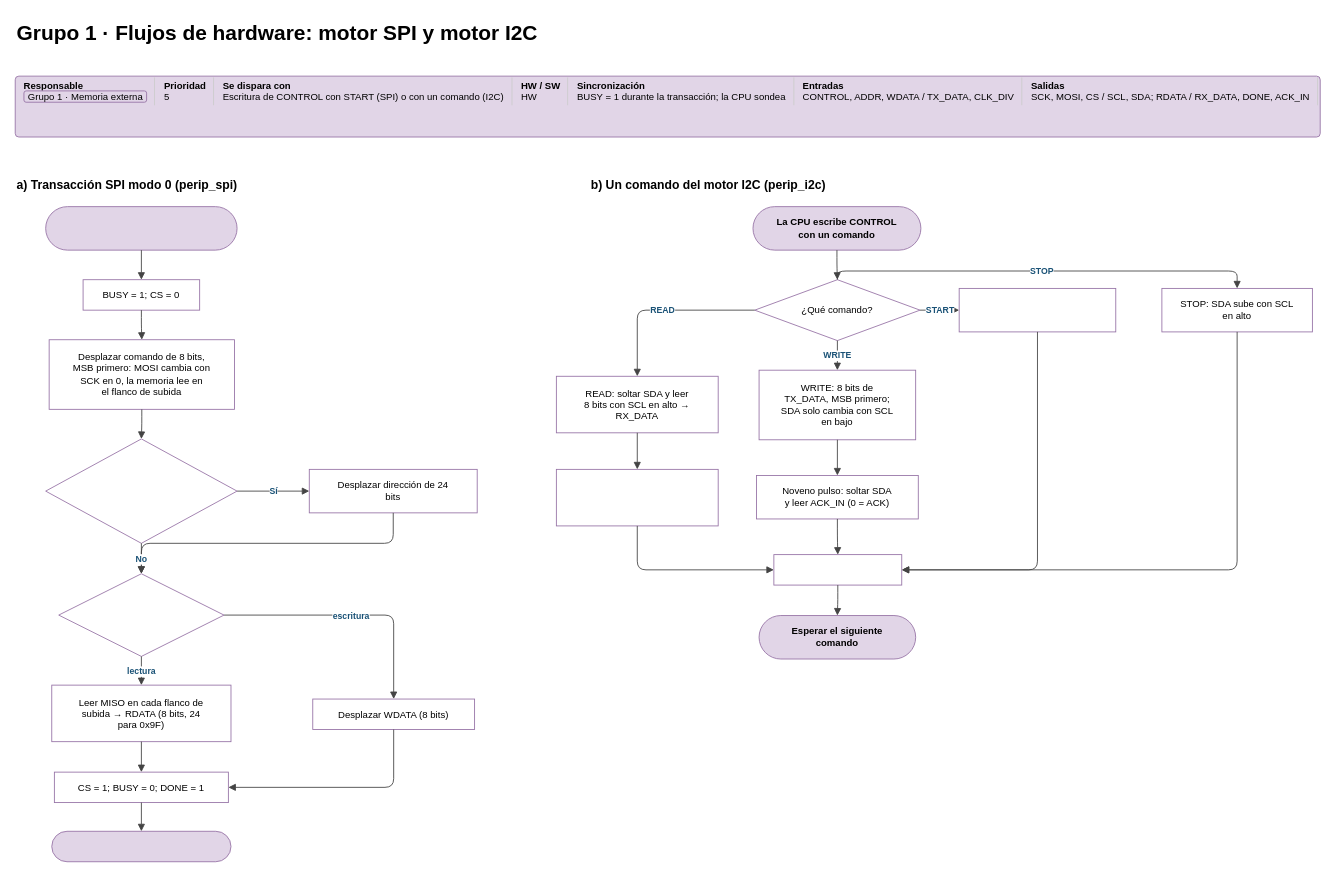
Image size: 1335x877. Some labels were removed from this diagram. Each missing label, with the centre of its shape:
BUSY = 0; DONE = 1: the point at 837,569
La CPU escribe CONTROL con START: the point at 141,228
Noveno pulso: poner ACK_OUT (0 = seguir, 1 = último byte): the point at 636,497
Reposo (SCK = 0, CS = 1): the point at 141,846
START: SDA baja con SCL en alto; luego SCL baja: the point at 1037,310
¿El comando lleva dirección? (0x03, 0x02, 0x20): the point at 141,490
¿Lectura o escritura?: the point at 141,614
